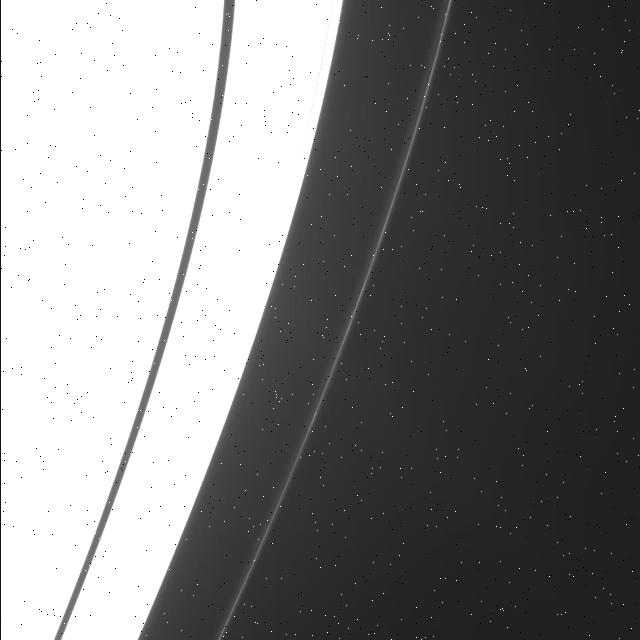Saturn: (0, 0, 465, 640)
